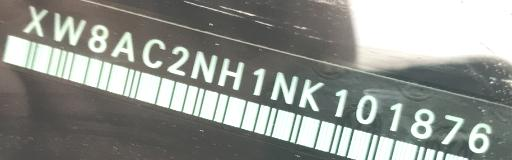letter: (52, 8, 88, 47), (20, 2, 50, 40), (296, 76, 324, 114), (189, 49, 219, 83), (216, 56, 246, 90), (270, 69, 300, 103), (466, 119, 496, 152), (109, 29, 137, 62), (165, 43, 191, 77), (352, 93, 380, 124), (140, 37, 168, 68), (440, 111, 466, 144), (409, 106, 435, 137), (86, 21, 110, 54), (330, 85, 350, 118), (387, 99, 405, 132), (250, 66, 268, 96)
